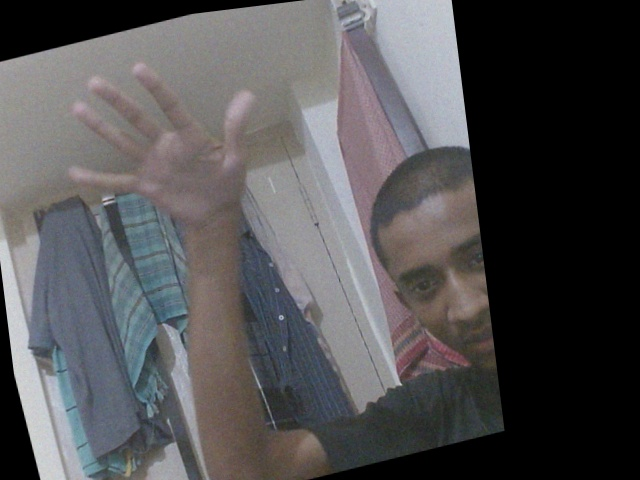hand: (54, 57, 263, 237)
